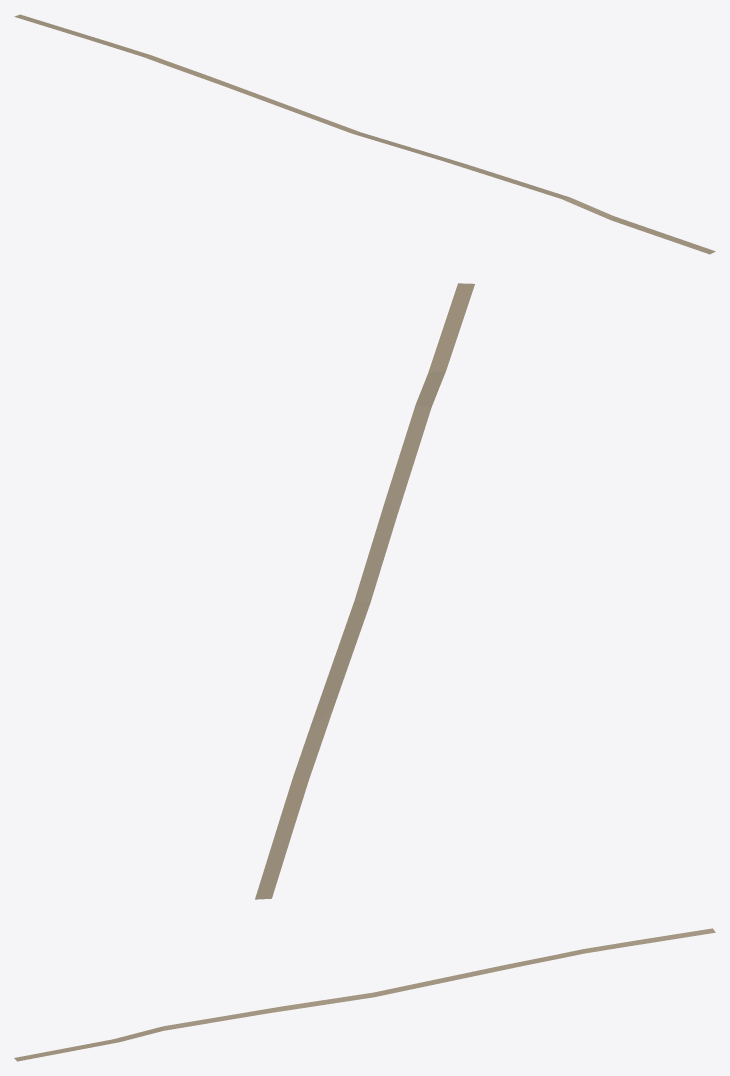
The model's file is farm_30_13_track.glb.
3 renders of one model, top to bottom at view 1: azimuth 30°, elevation 25°; view 2: azimuth 150°, elevation 25°; view 3: azimuth 270°, elevation 25°, orthographic. The views are drawn at different scales.
Visible parts, largest first — view 1: geometry_0; view 2: geometry_0; view 3: geometry_0.
Boxes of the visible parts, bbox=[...] form: geometry_0: bbox=[14, 14, 715, 254]; geometry_0: bbox=[255, 283, 474, 899]; geometry_0: bbox=[14, 928, 715, 1061].
Bounding box in the file's own units: 112 × 4.47 × 267.
